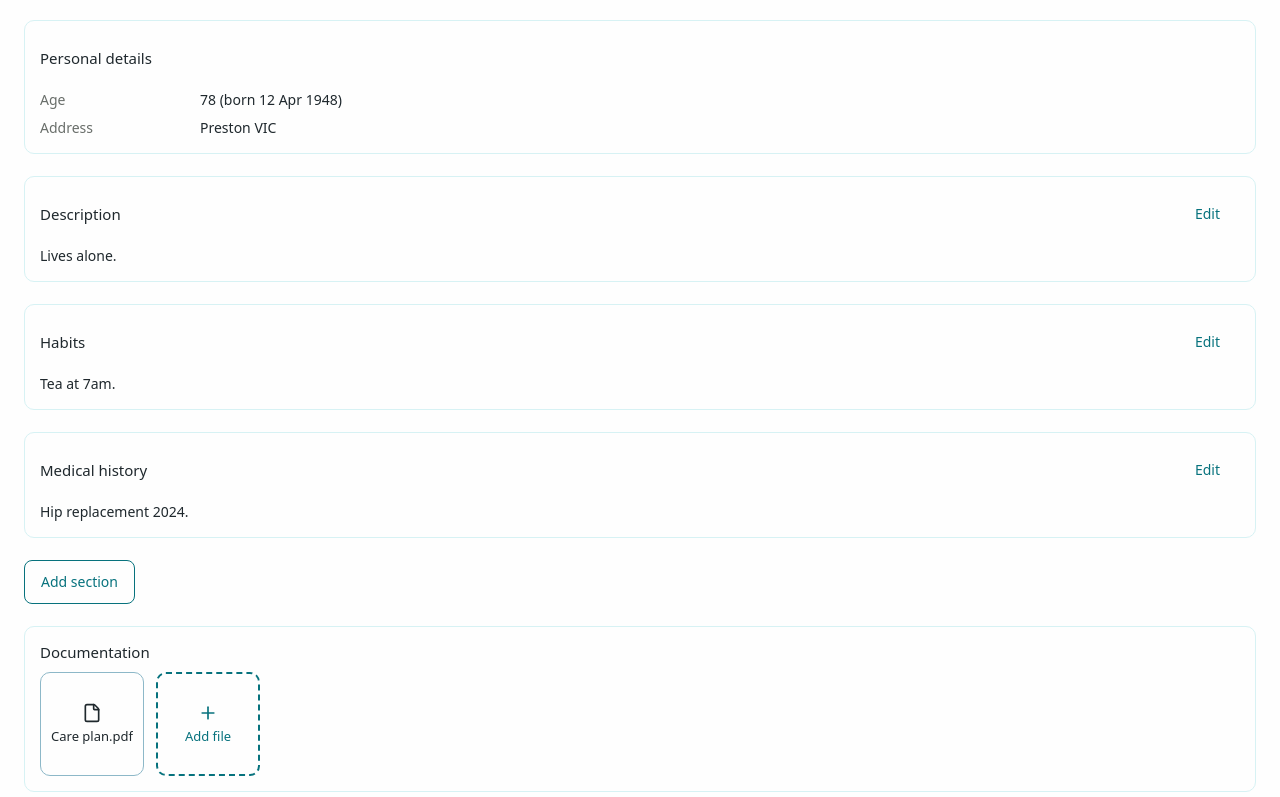
Test: [CAR-04][AC-05] the shift ends while editing › [CAR-04][AC-05] shows the shift-ended message, keeps the draft and the saved text
Click the button with aria-label "Edit Habits". click: (1207, 342)
box: [1175,320,1240,364]
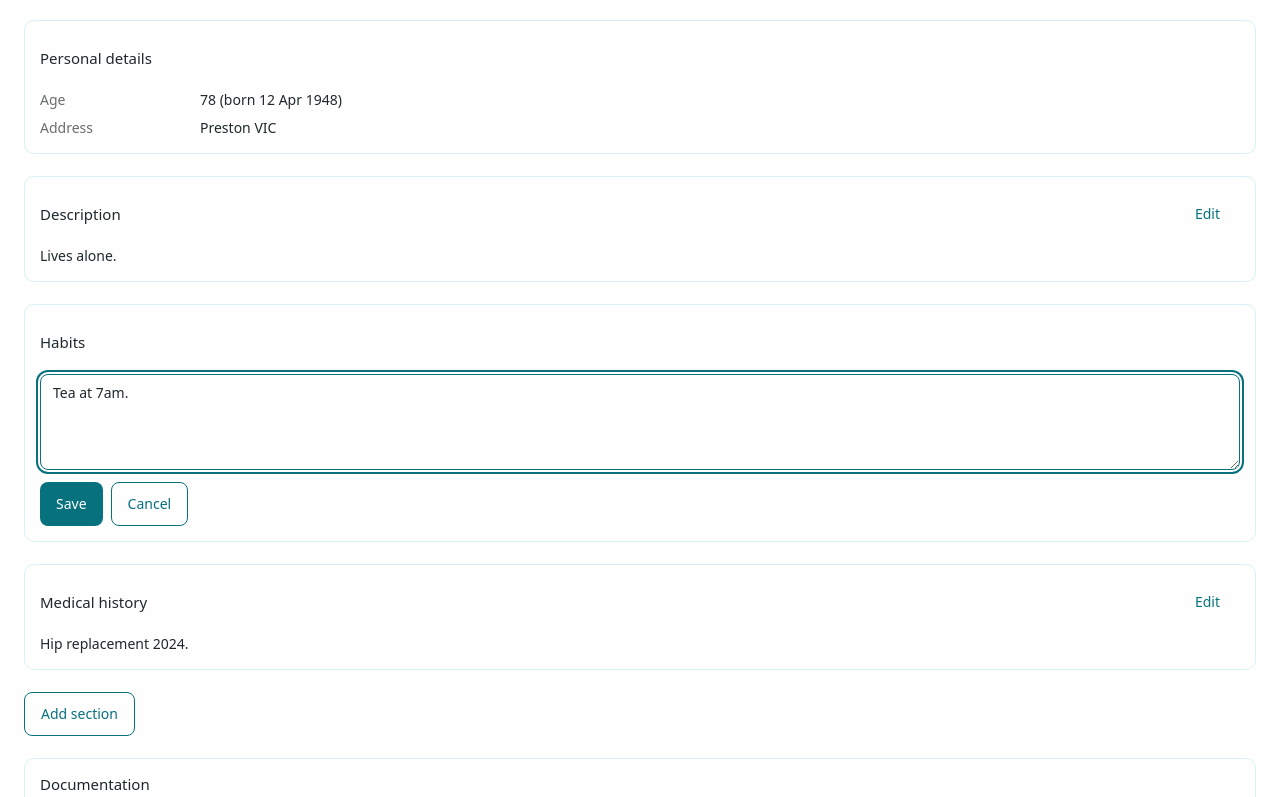
Replace the text in the text box named "Habits" with "Late change". click: (640, 422)
box: [40,374,1240,470]
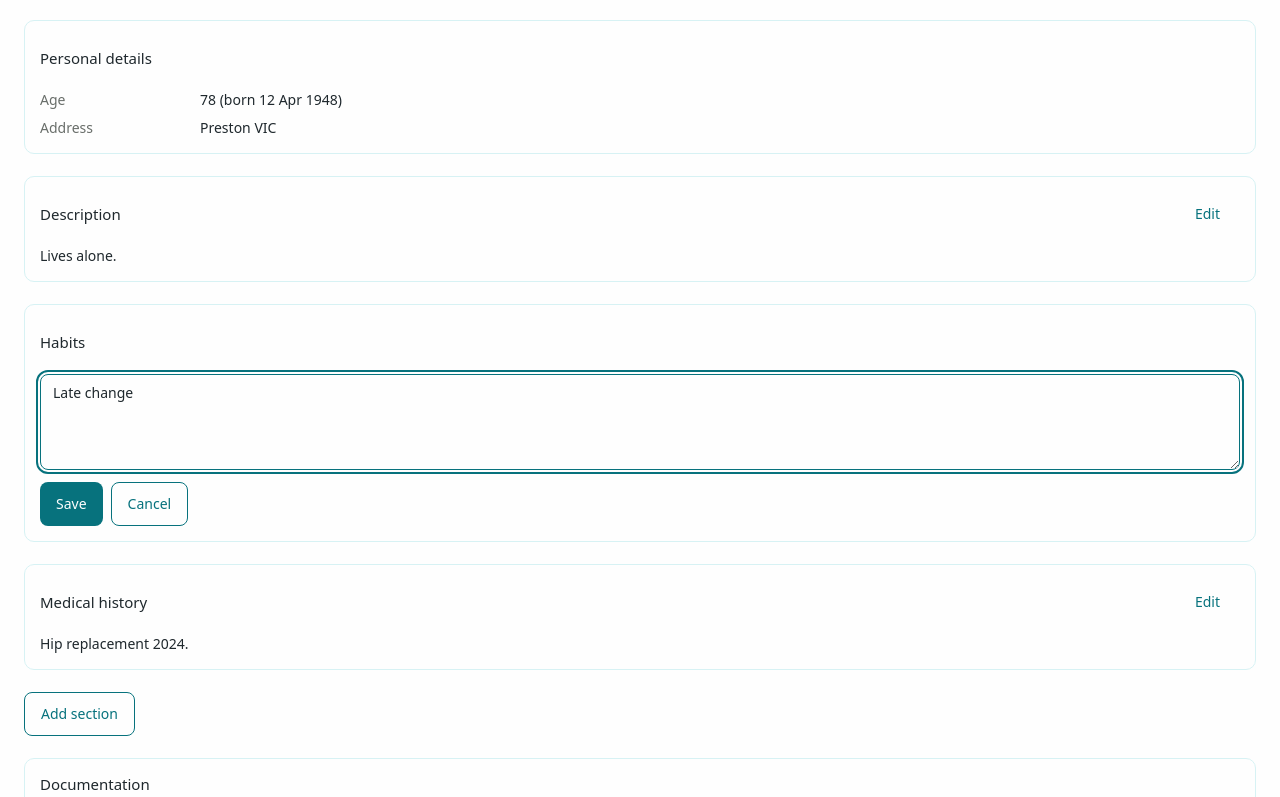
Click the button "Save". click: (71, 504)
box: [40,482,103,526]
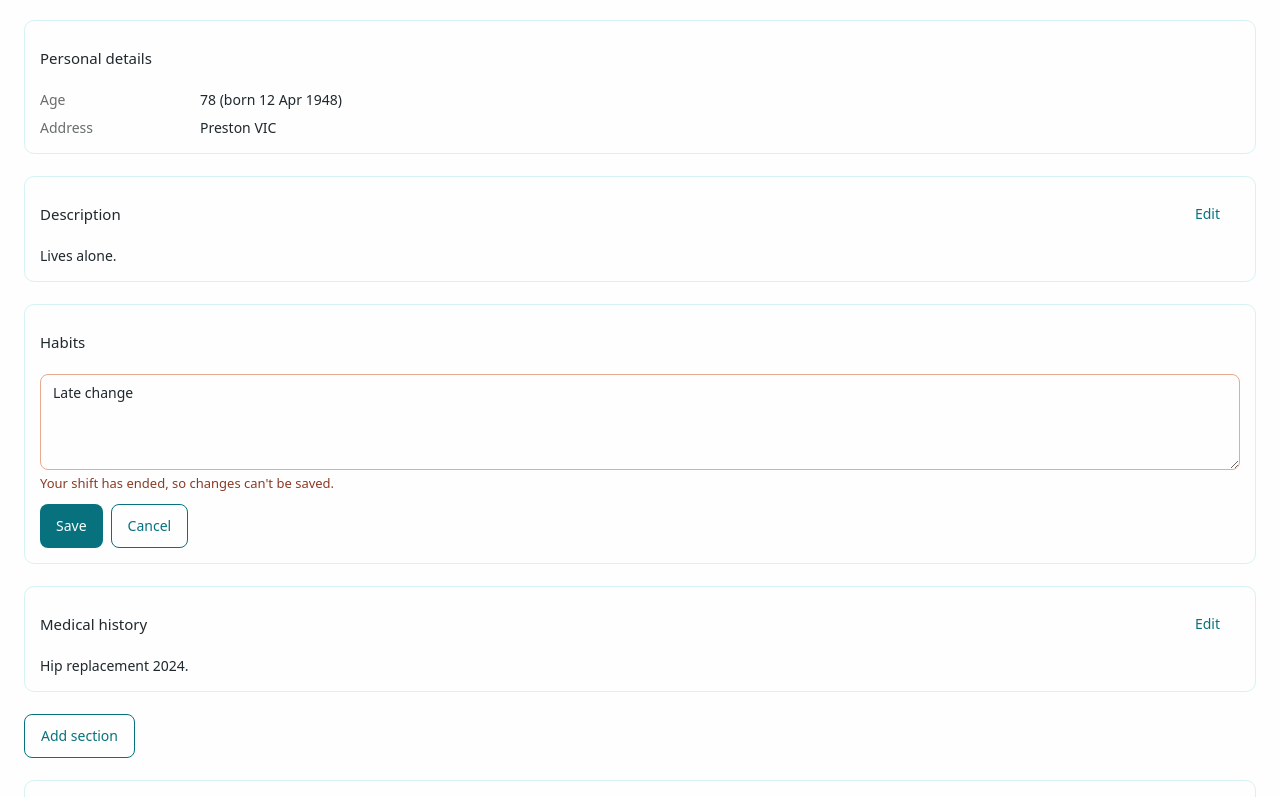
Expected: the text "Tea at 7am." is not shown
Expected: the text "Your shift has ended, so changes can't be saved." is shown, [40,474,334,492]
Click the button "Cancel". click: (149, 526)
box: [111,504,188,548]
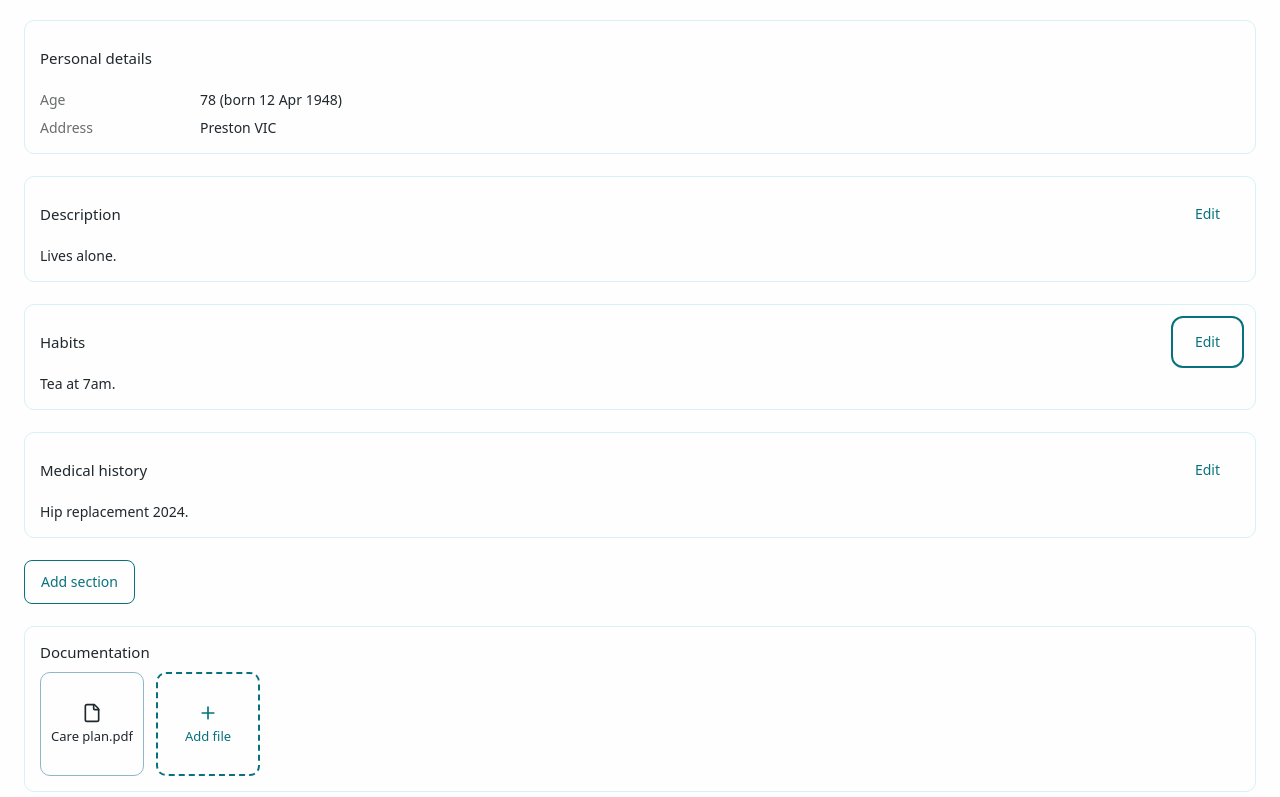
Expected: the text "Tea at 7am." is shown, [40,374,116,393]
